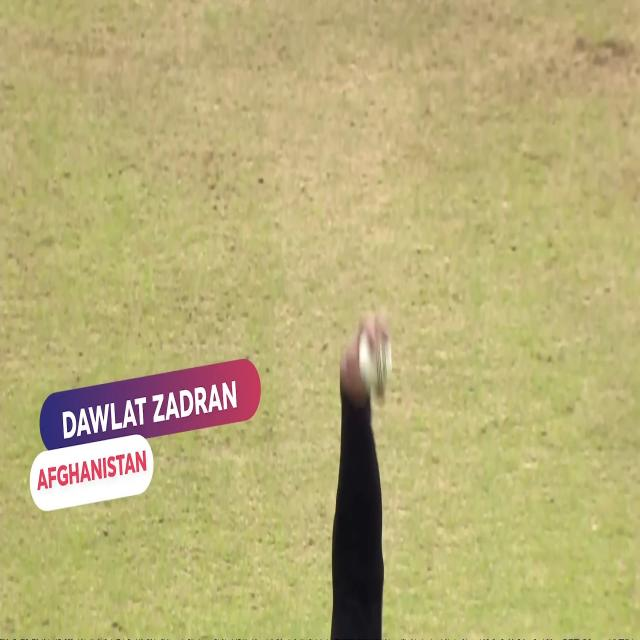ball: (359, 328, 399, 388)
